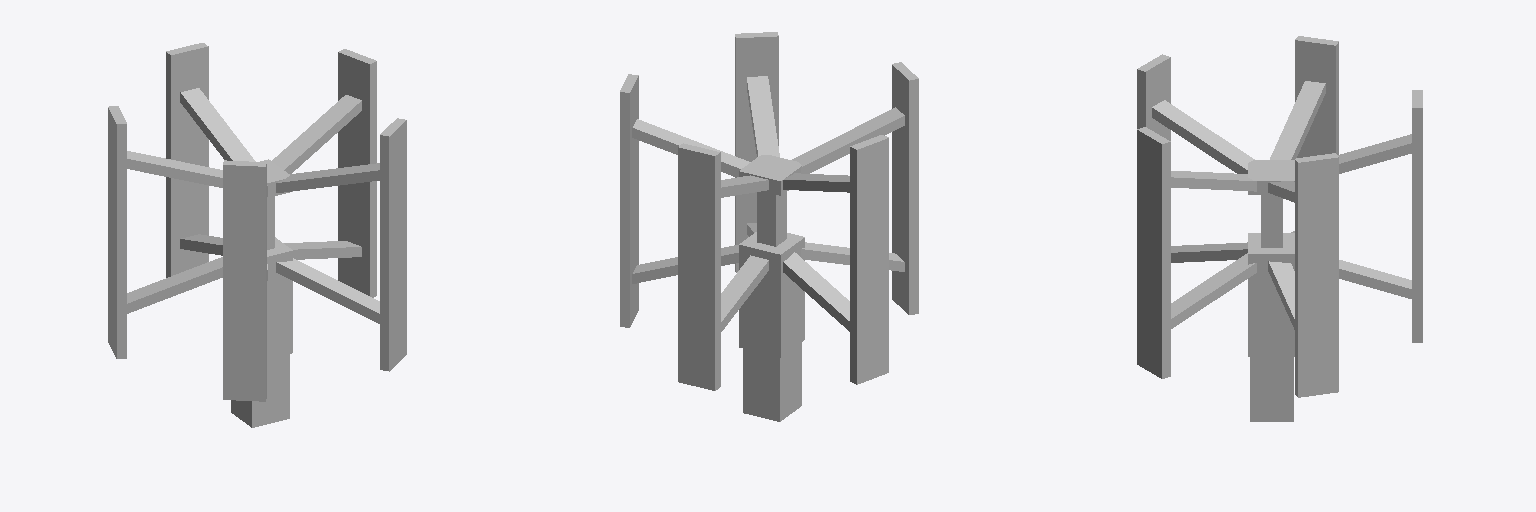
File: vawt.obj
3 views of the same model, side by side, from view 1: azimuth 30°, elevation 25°; view 2: azimuth 150°, elevation 25°; view 3: azimuth 270°, elevation 25° (orthographic).
Visible parts, largest first — view 1: 11, 17, 5, 14, 8, 4, 18, 1, 16, 6, 10, 9 (+3 smaller); view 2: 5, 8, 11, 4, 14, 17, 1, 12, 10, 15, 7, 18 (+6 smaller); view 3: 17, 14, 4, 8, 1, 5, 12, 16, 11, 9, 6, 15 (+5 smaller).
Part boxes in pixels (x1,y1,x2,y2): 11: (223, 160, 266, 401); 17: (338, 49, 376, 297); 5: (166, 43, 208, 277); 14: (380, 118, 406, 371); 8: (108, 106, 126, 358); 4: (267, 237, 292, 359); 18: (272, 95, 361, 173); 1: (231, 354, 289, 427); 16: (276, 258, 379, 323); 6: (180, 88, 255, 161); 10: (127, 257, 222, 313); 9: (127, 151, 222, 187); 5: (678, 143, 720, 390); 8: (850, 135, 888, 384); 11: (892, 62, 918, 314); 4: (739, 232, 804, 357); 14: (735, 32, 778, 272); 17: (620, 74, 638, 327); 1: (743, 343, 801, 421); 12: (792, 107, 904, 173); 10: (783, 252, 849, 331); 15: (747, 76, 779, 156); 7: (721, 255, 768, 331); 18: (632, 119, 750, 177); 17: (1295, 153, 1338, 397); 14: (1137, 127, 1170, 378); 4: (1248, 233, 1294, 356); 8: (1295, 36, 1338, 157); 1: (1250, 357, 1293, 421); 5: (1412, 90, 1422, 342); 12: (1152, 100, 1254, 173); 16: (1171, 253, 1256, 328); 11: (1137, 54, 1170, 140); 9: (1270, 81, 1325, 159); 6: (1338, 134, 1411, 173); 15: (1171, 171, 1256, 191).
Size of the model in its own units: 1.74 by 2 by 1.66.